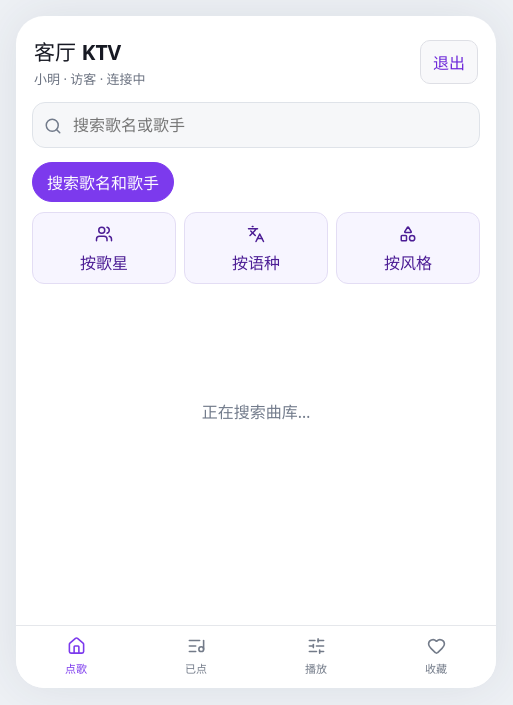
mobile application shell › restores discovery text and search scope after switching to the queue tab
Type "zhou" into the field with placeholder "搜索歌名或歌手". click: (256, 125)
box: [32,102,480,148]
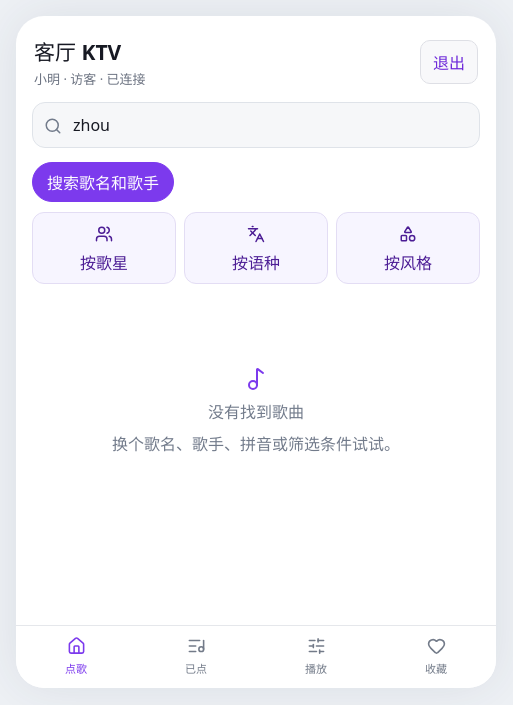
Click the button "搜索歌名和歌手". click: click(103, 182)
box: [32,162,174,202]
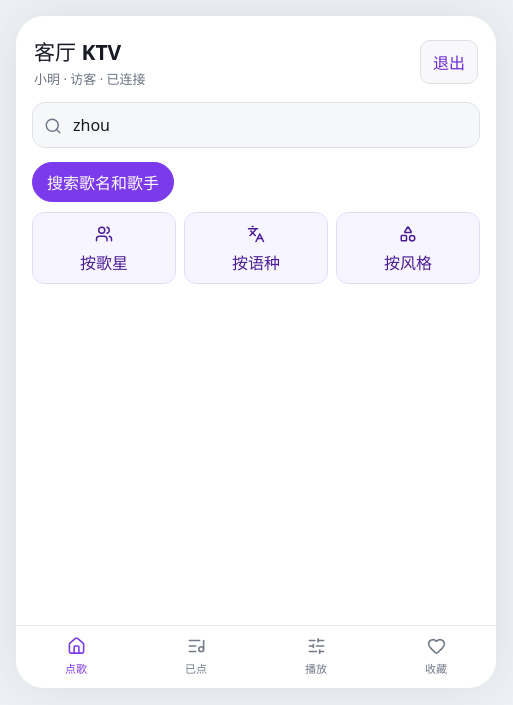
Click the link "已点". click: click(196, 655)
box: [185,634,207,676]
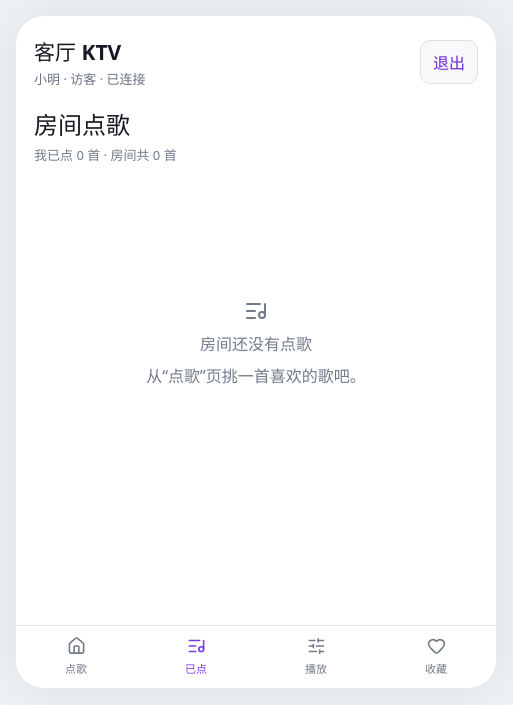
Now the heading "房间点歌" is shown, box [34,108,130,141]
Click the link "点歌". click: click(76, 655)
box: [65,634,87,676]
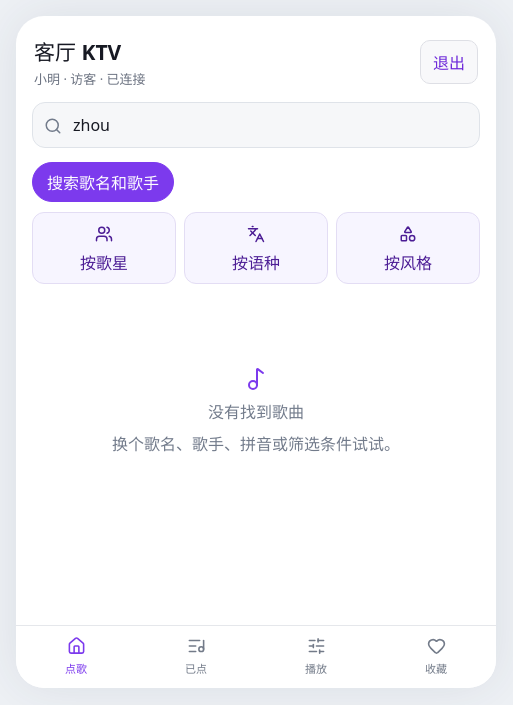
Now the field with placeholder "搜索歌名或歌手" holds "zhou", box [32,102,480,148]
